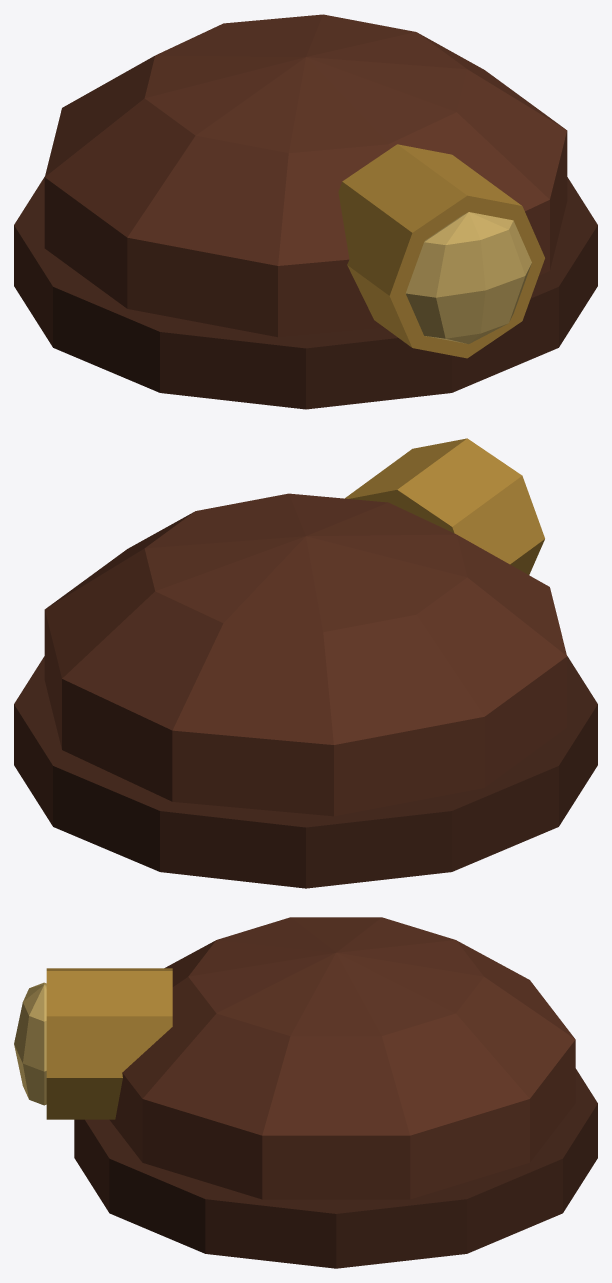
Rendered from lantern_hat.glb.
The picture shows the model from 3 angles, top to bottom: view 1: azimuth 30°, elevation 25°; view 2: azimuth 150°, elevation 25°; view 3: azimuth 270°, elevation 25°; orthographic projection. The views are drawn at different scales.
Visible parts, largest first — view 1: Crown_mesh, Lantern_mesh; view 2: Crown_mesh, Lantern_mesh; view 3: Crown_mesh, Lantern_mesh.
Part boxes in pixels (box(x1,y1,x2,y2)): Crown_mesh: box(14, 14, 597, 409); Lantern_mesh: box(338, 144, 544, 358); Crown_mesh: box(14, 493, 597, 888); Lantern_mesh: box(345, 438, 544, 574); Crown_mesh: box(74, 917, 597, 1268); Lantern_mesh: box(14, 968, 172, 1119).
Size of the model in its own units: 0.208 by 0.11 by 0.232.
